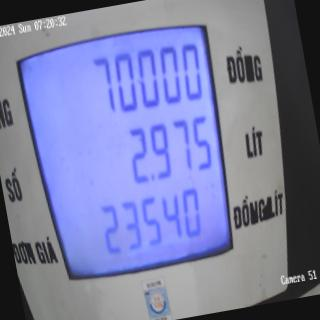screen: (8, 0, 251, 294)
